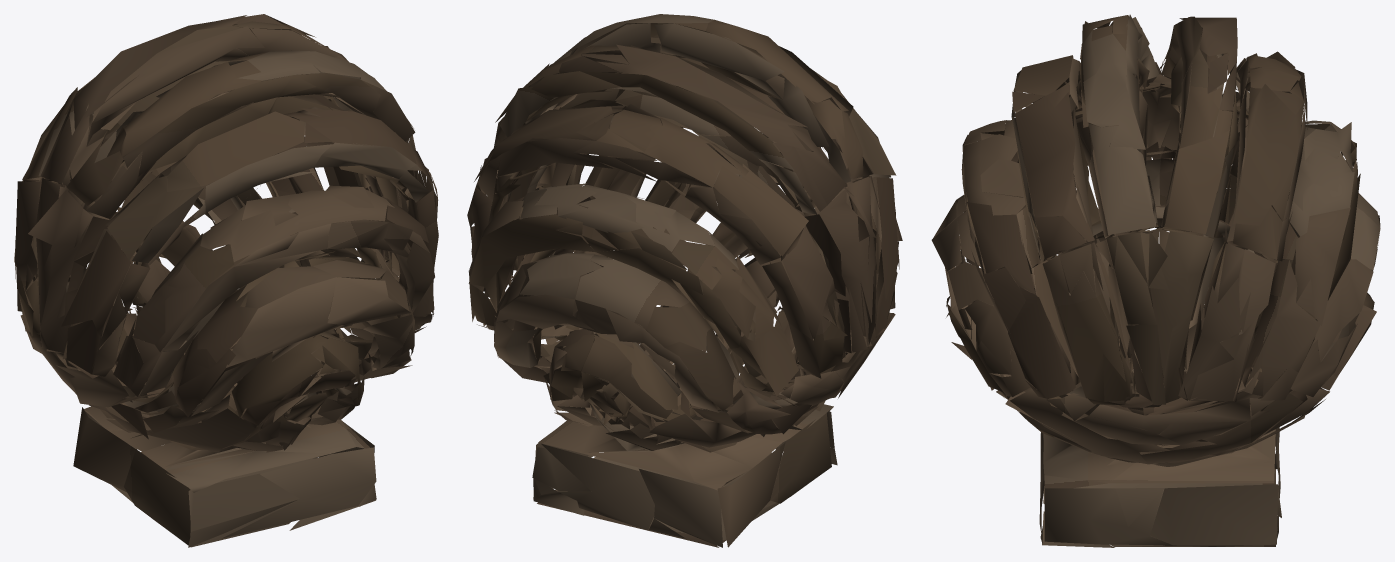
File: art2.glb
The picture shows the model from 3 angles, left to right: view 1: azimuth 30°, elevation 25°; view 2: azimuth 150°, elevation 25°; view 3: azimuth 270°, elevation 25°; orthographic projection. The views are drawn at different scales.
Visible parts, largest first — view 1: LO.001; view 2: LO.001; view 3: LO.001.
Boxes of the visible parts, <box> form: LO.001: <box>14,14,438,547</box>; LO.001: <box>467,14,902,547</box>; LO.001: <box>931,14,1380,547</box>.
Size of the model in its own units: 0.8839 by 1 by 0.8569.
1 material, 1 textured.
